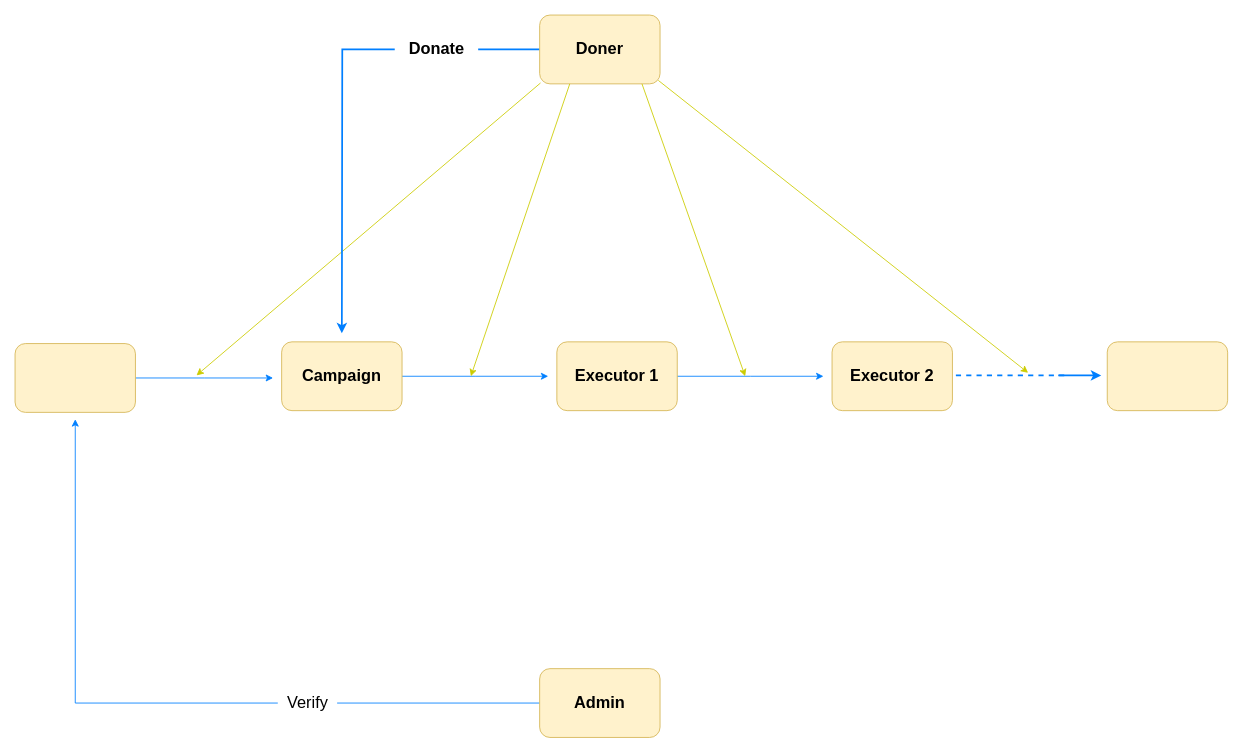
Image size: 1243x753. Some labels were removed from this diagram. The centre of each missing label's shape, as x and y in pixels:
"Executor N" belongs at point 1167,376.
"Organization" belongs at point 74,377.
